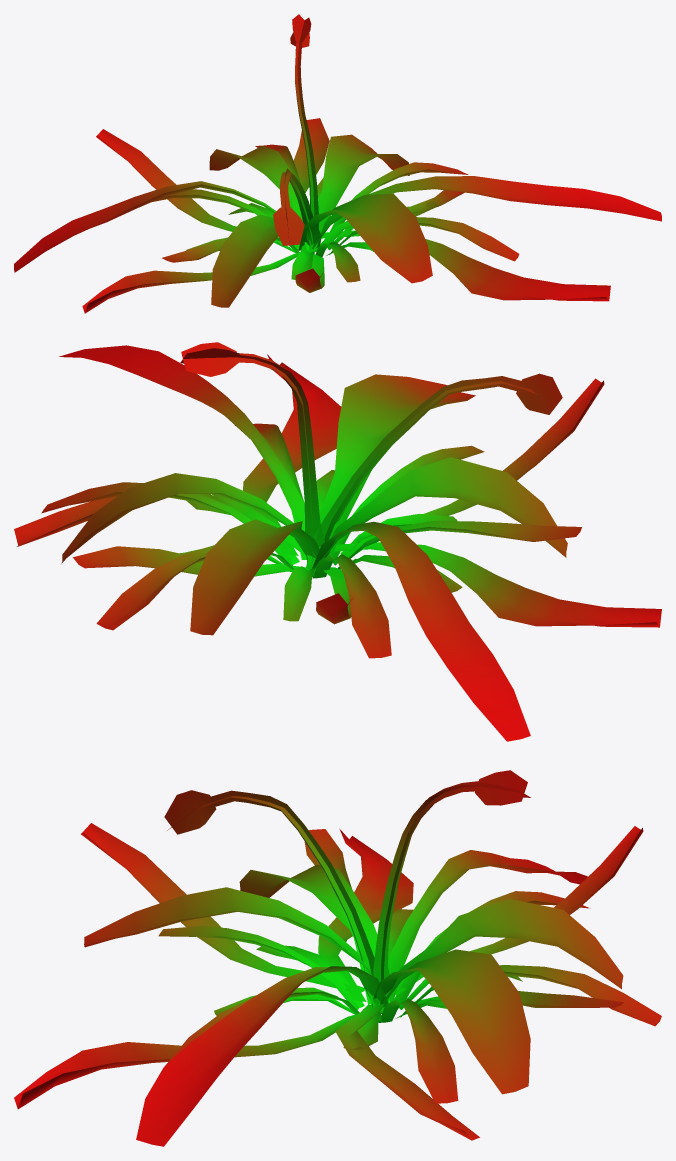
File: Var4_LOD0.fbx
The picture shows the model from 3 angles, top to bottom: view 1: azimuth 30°, elevation 25°; view 2: azimuth 150°, elevation 25°; view 3: azimuth 270°, elevation 25°; orthographic projection. The views are drawn at different scales.
Visible parts, largest first — view 1: Var4_LOD0; view 2: Var4_LOD0; view 3: Var4_LOD0.
Part boxes in pixels (box(x1,y1,x2,y2)): Var4_LOD0: box(14, 14, 661, 313); Var4_LOD0: box(14, 342, 661, 741); Var4_LOD0: box(14, 770, 661, 1146).
Bounding box in the file's own units: 51.29 × 19.94 × 41.48.
